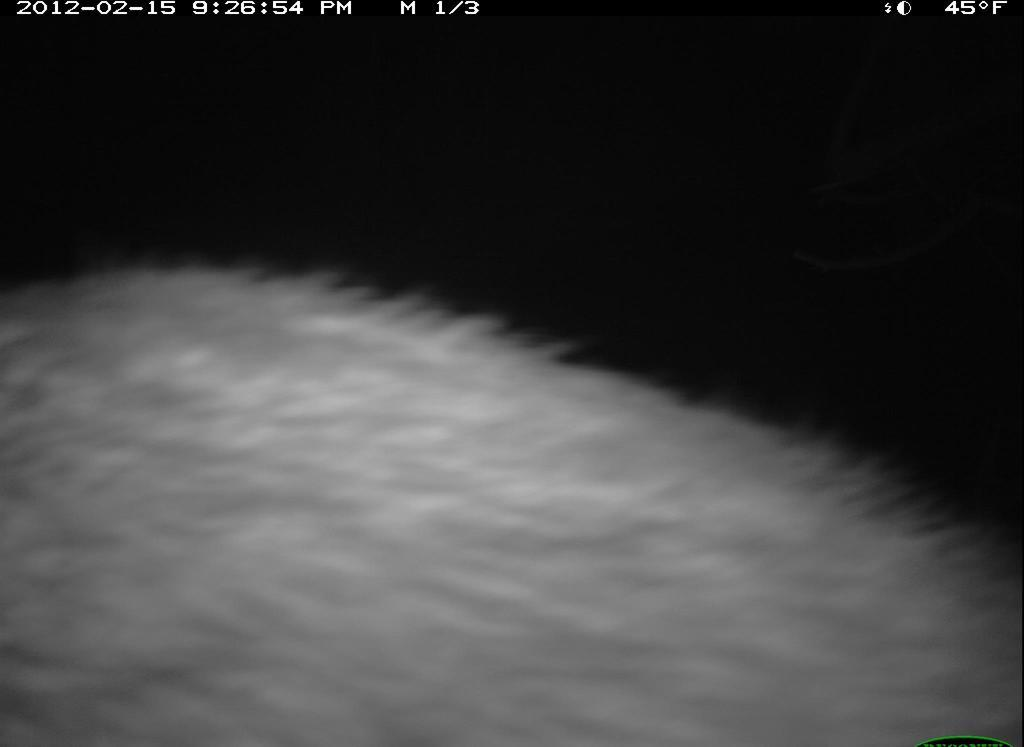raccoon: (6, 226, 1012, 744)
